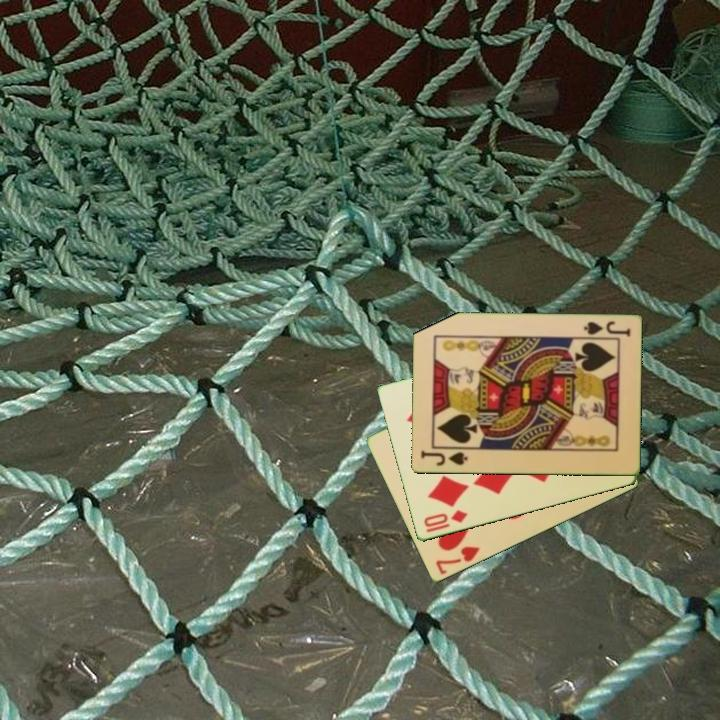10d: (420, 506, 470, 536)
7h: (432, 543, 483, 578)
Js: (417, 447, 470, 469), (580, 318, 633, 340)
